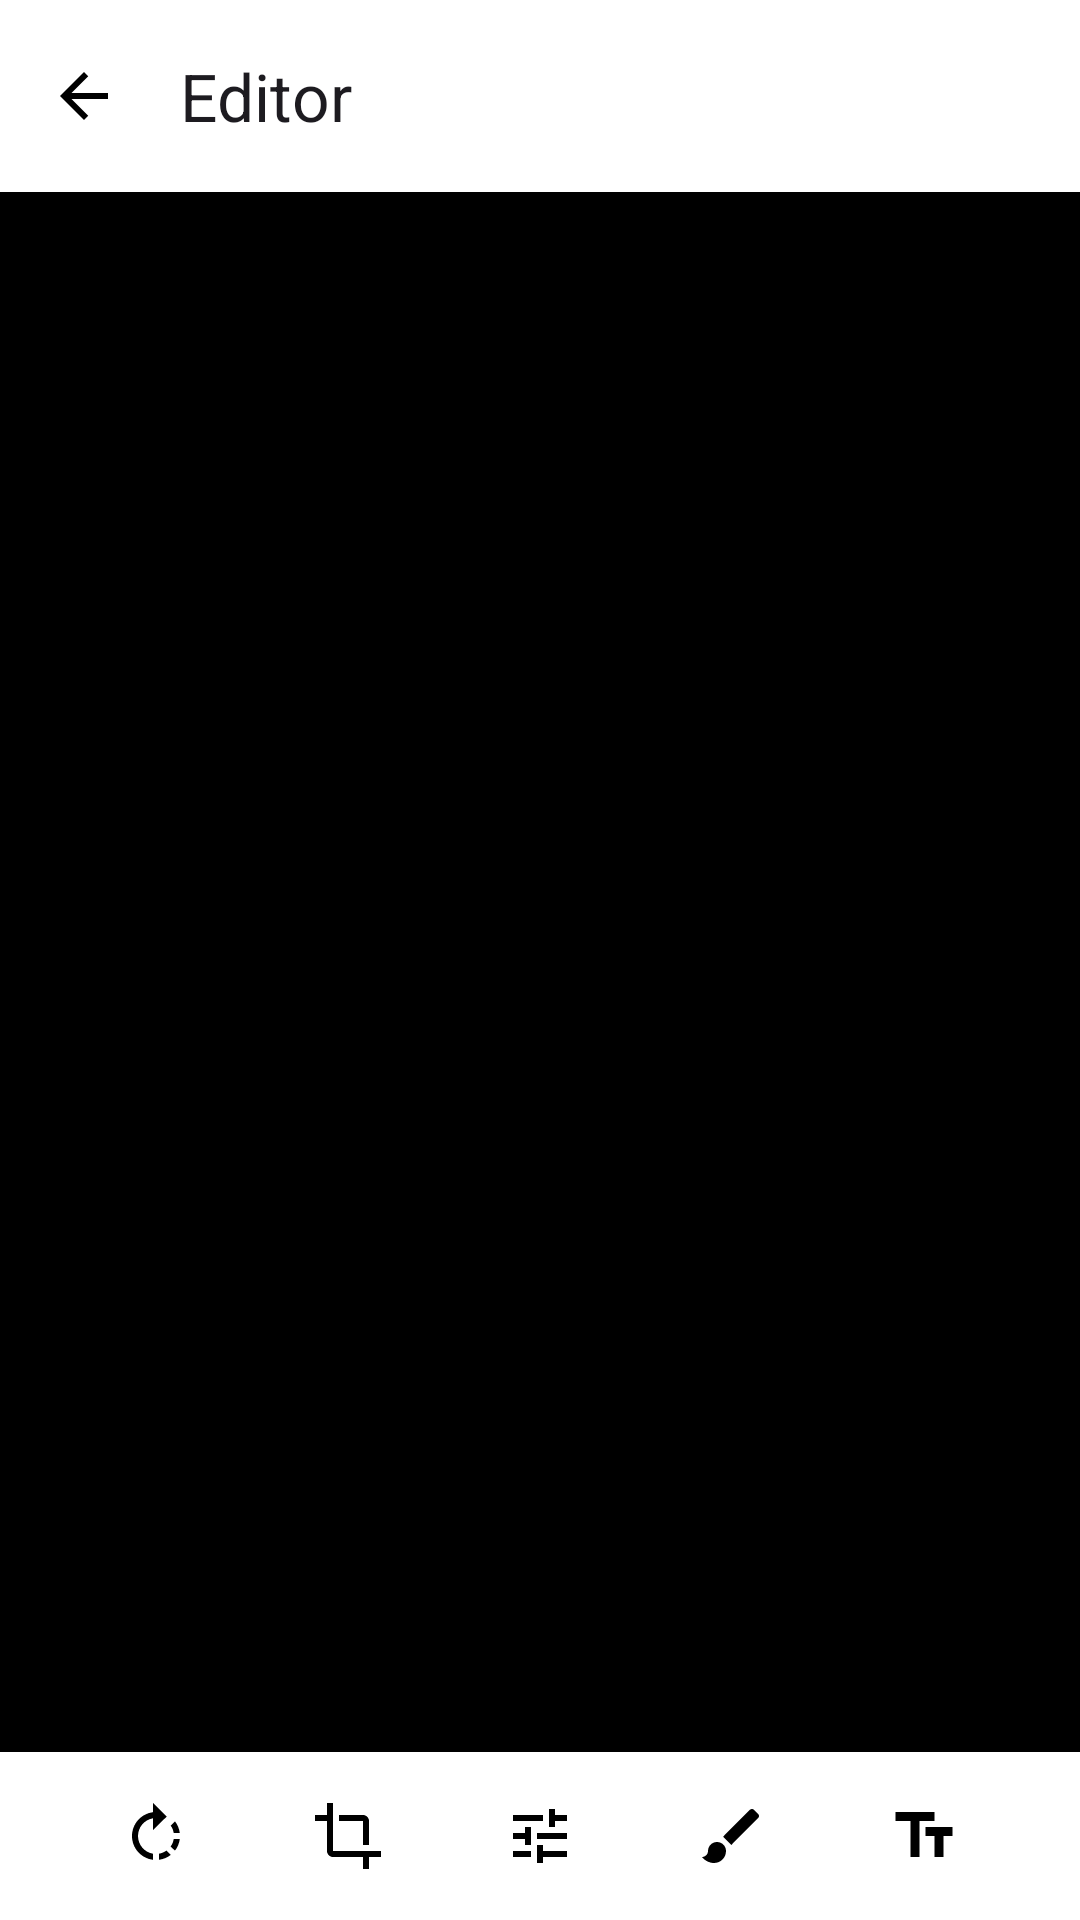

Locate icon controls on the screen. Image size 1080×1920, boxes as (x1, y1, x2, y2).
Lukis: (702, 1809, 759, 1863)
Penapis: (513, 1809, 567, 1863)
Potong: (315, 1803, 381, 1869)
rotate right: (132, 1803, 180, 1860)
Teks: (895, 1812, 953, 1857)
